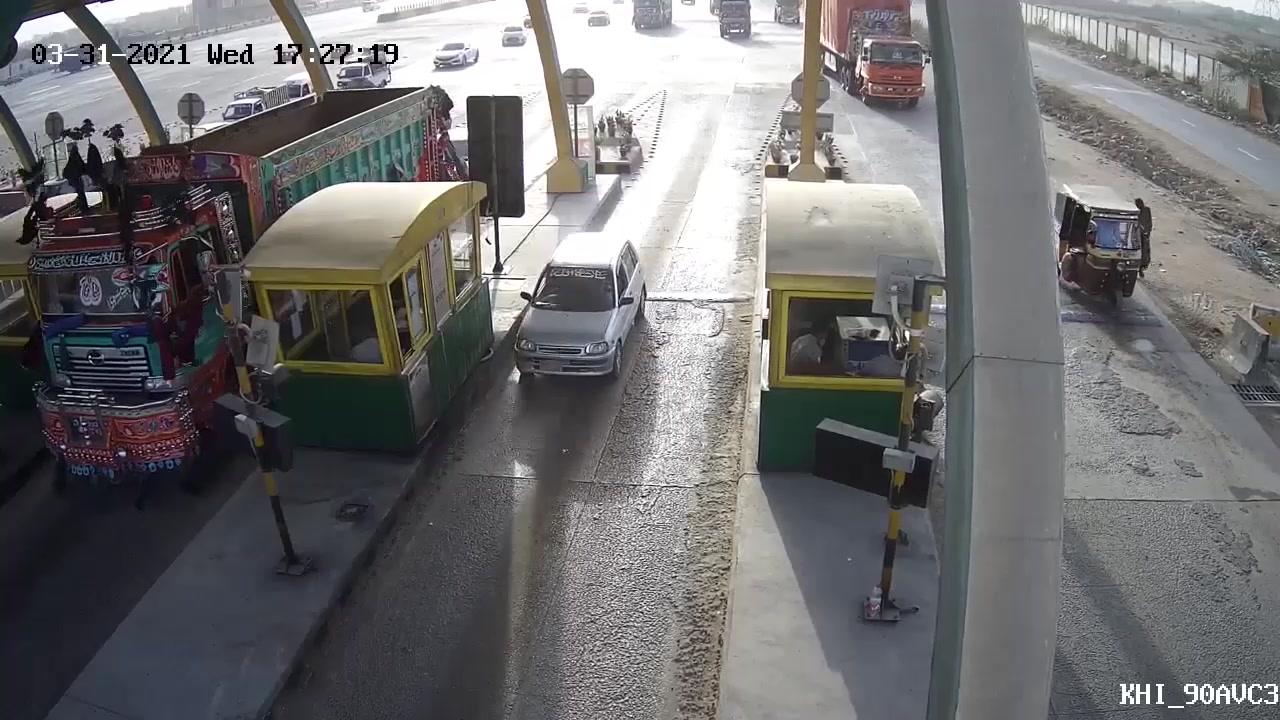F1: (504, 230, 653, 409)
